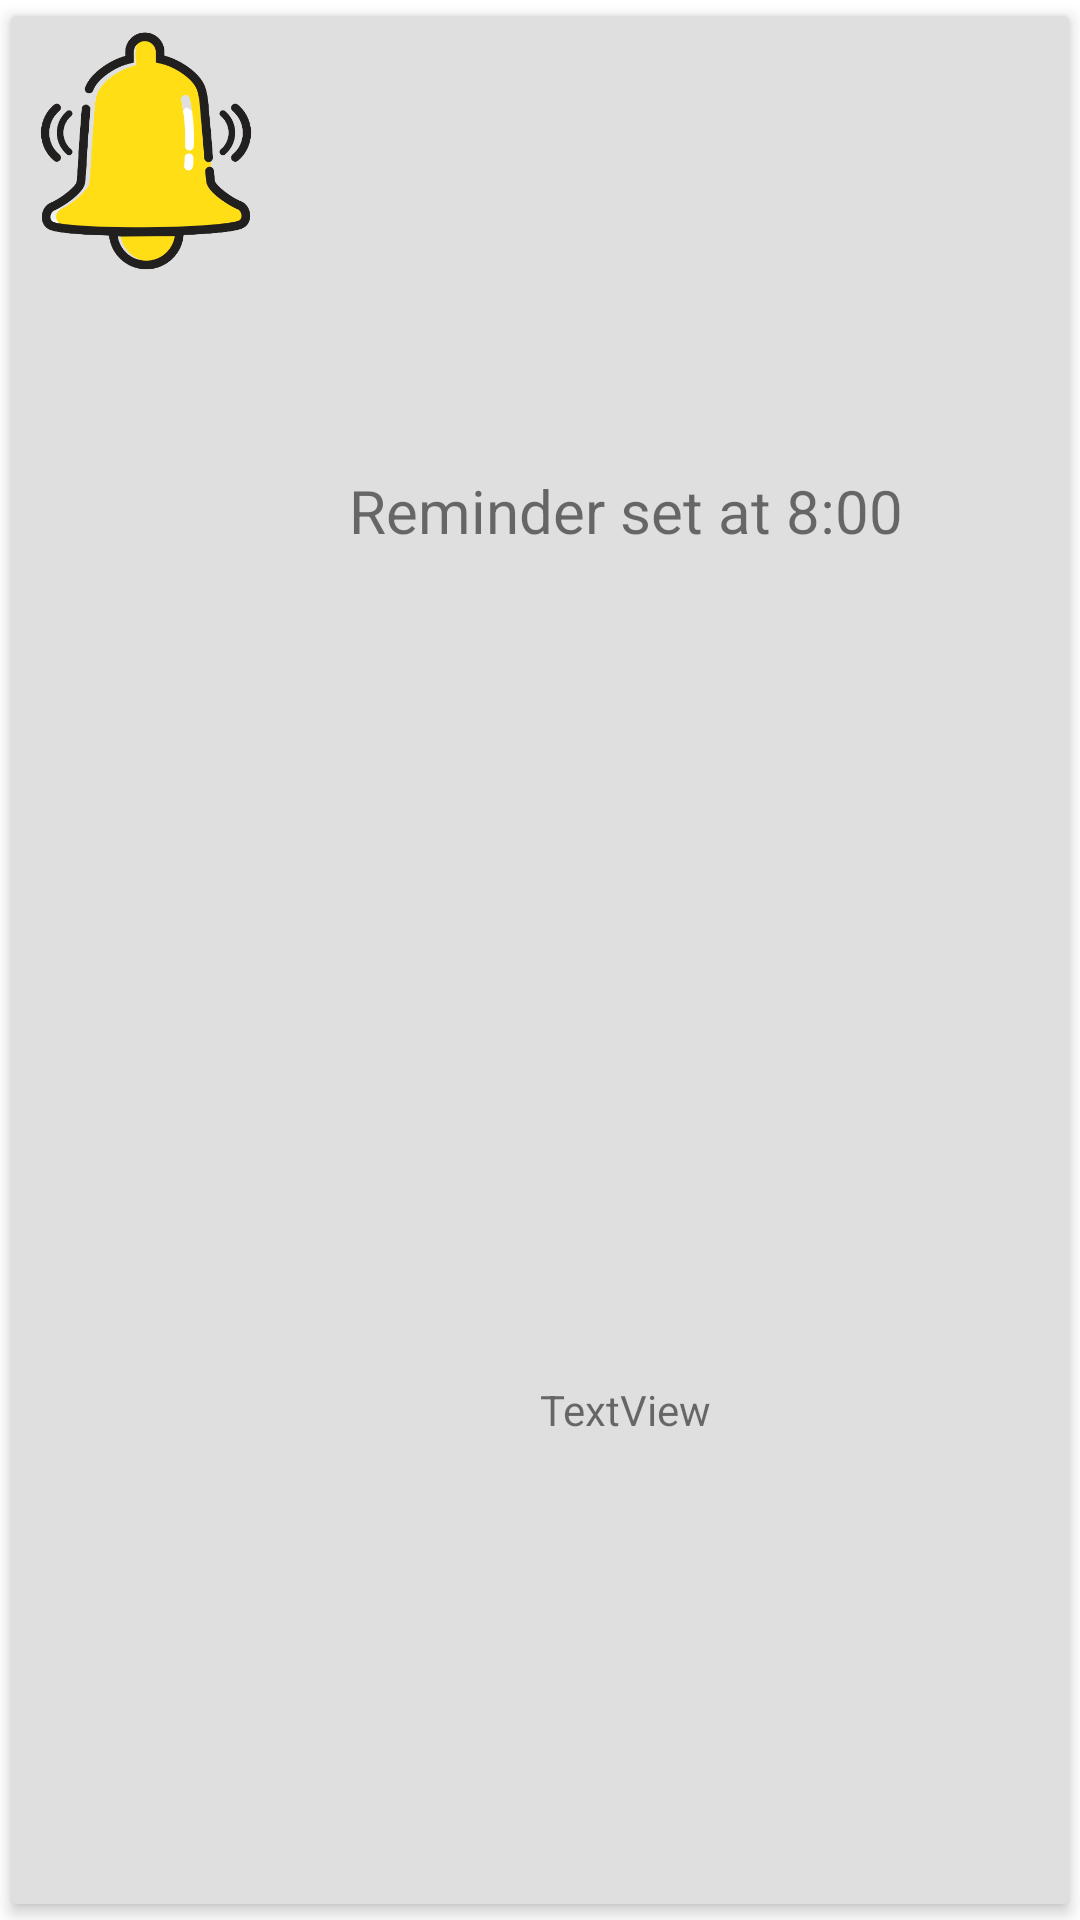

Named icons in this screenshot (1080px x 1920px) and their bounding boxes, (x1, y1, x2, y2):
bell: (41, 32, 251, 269)
